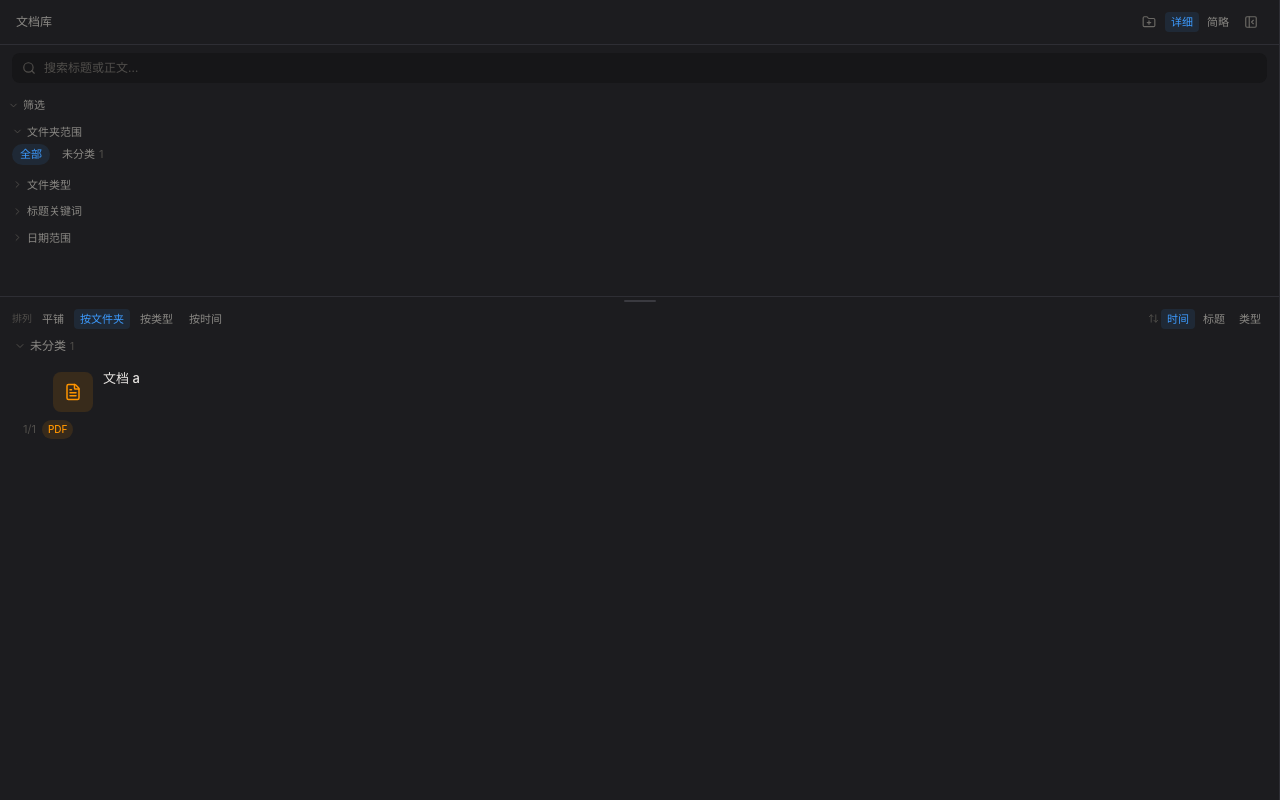
it: 密度（详细 / 简略） › 简略模式：筛选区小节**不进 DOM**，只留一行入口
Expected: the element showing "文件夹范围 全部 未分类 1" is shown, [0,120,1279,170]
Click the button "简略". click: (1218, 22)
box: [1201,12,1235,32]
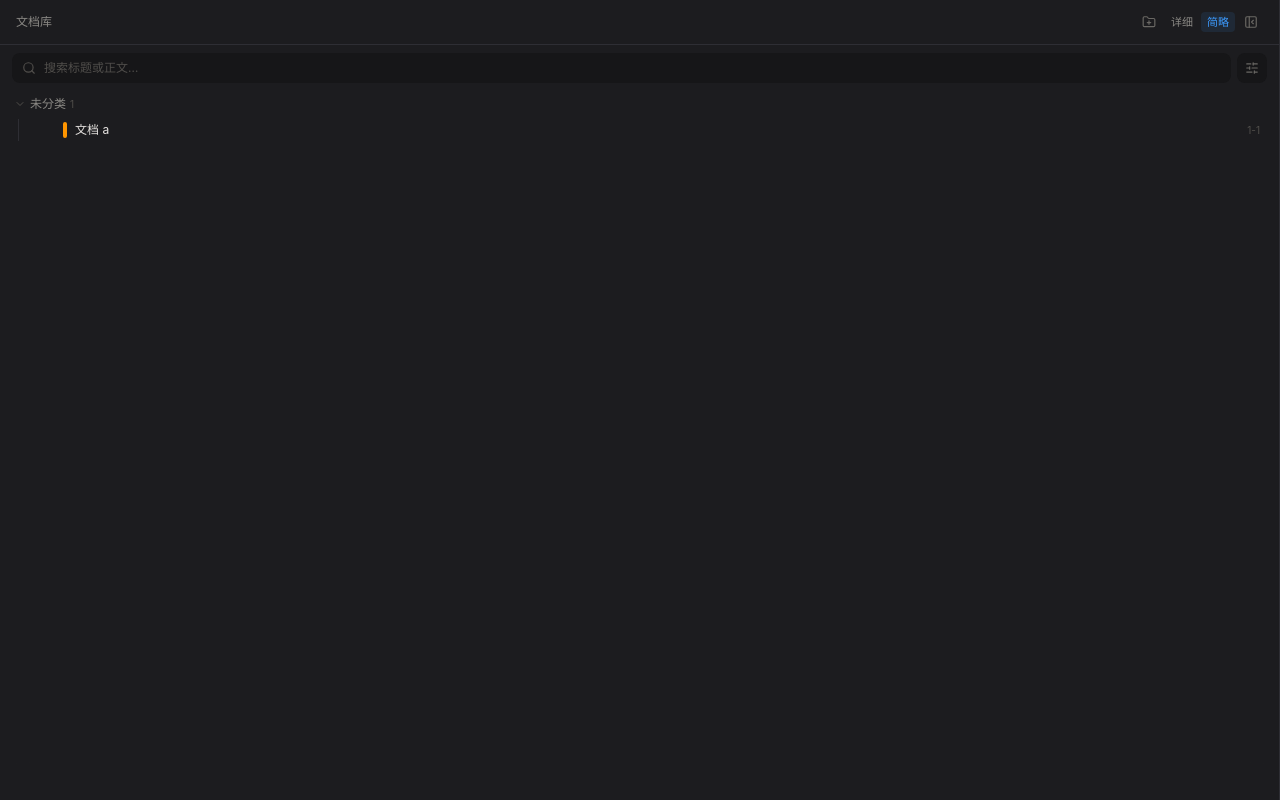
Expected: the field with placeholder "搜索标题或正文…" is shown, [44,59,1221,77]
Expected: the button named "筛选" is shown, [1237,53,1267,83]
